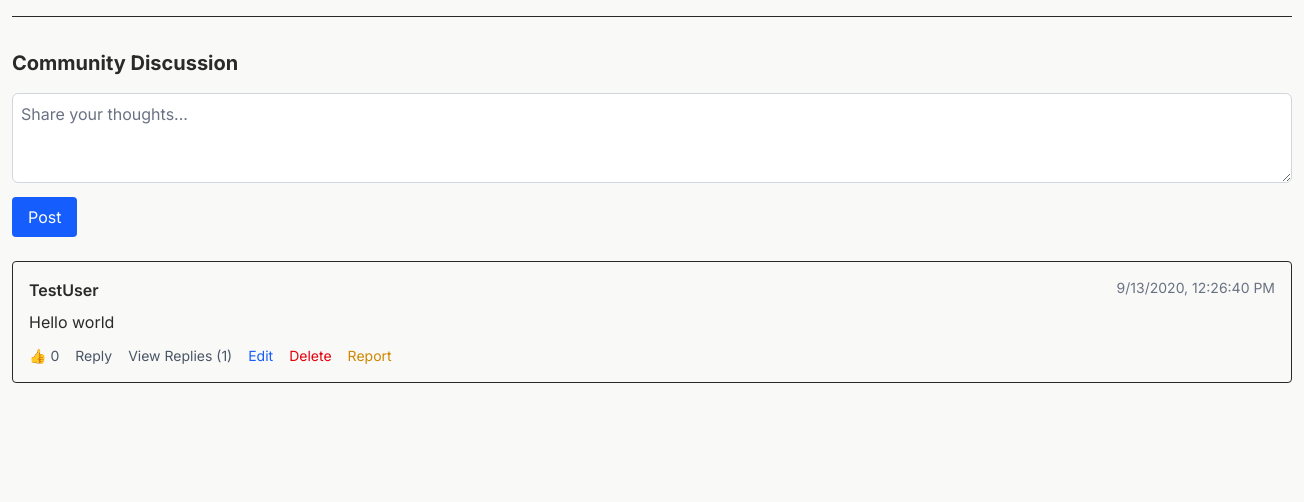
Scenario: CommunityDiscussion › fetches and renders replies when View Replies is clicked
The image size is (1304, 502).
Check: the text "Hello world" is shown, box [29, 312, 114, 332]
Click the button "View Replies (1)".
click(180, 356)  # box [128, 346, 232, 366]
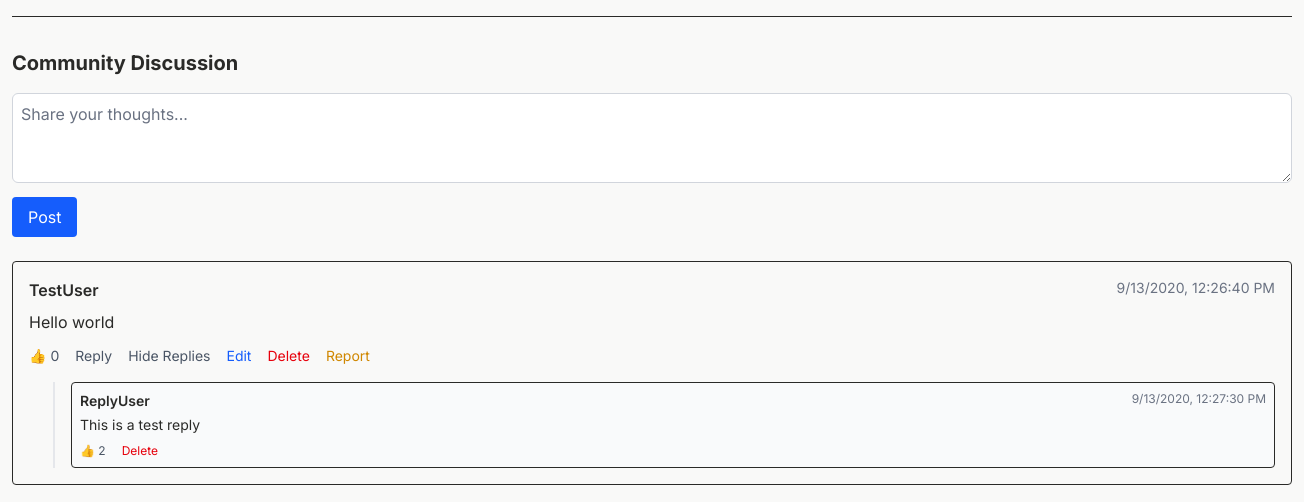
Check: the text "ReplyUser" is shown, box [80, 391, 150, 411]
Check: the button "👍 2" is shown, box [80, 443, 106, 459]
Check: the list item "This is a test reply" is shown, box [80, 416, 200, 433]
